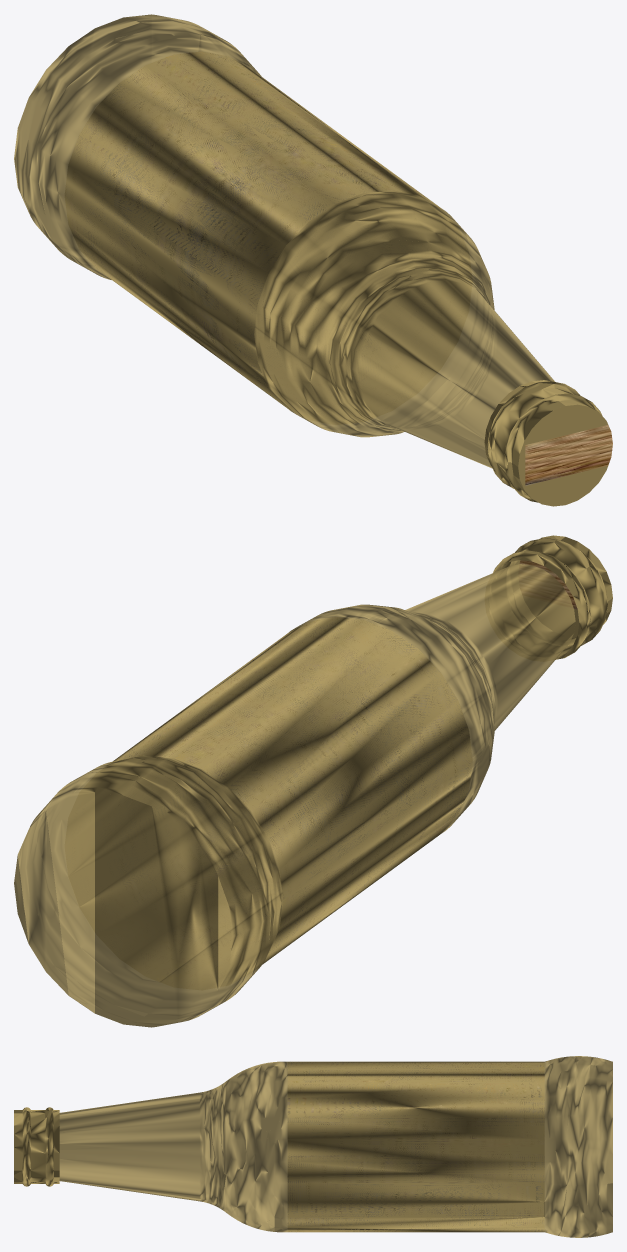
Rendered from model_align.obj.
3 views of the same model, one above another, from view 1: azimuth 30°, elevation 25°; view 2: azimuth 150°, elevation 25°; view 3: azimuth 270°, elevation 25° (orthographic). The views are drawn at different scales.
Bounding box in the file's own units: 0.0416 × 0.0416 × 0.1365.
